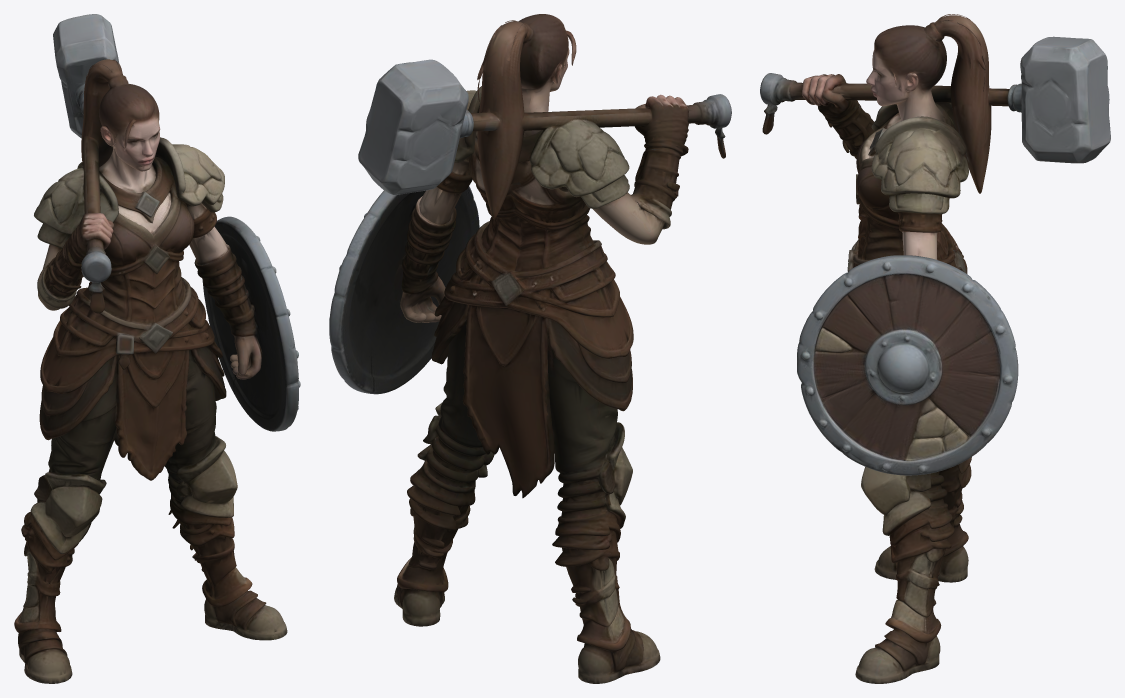
The model's file is hero_f_2.glb.
3 views of the same model, side by side, from view 1: azimuth 30°, elevation 25°; view 2: azimuth 150°, elevation 25°; view 3: azimuth 270°, elevation 25° (orthographic). The views are drawn at different scales.
Visible parts, largest first — view 1: node_0; view 2: node_0; view 3: node_0.
Part boxes in pixels (bbox=[...]): node_0: bbox=[14, 14, 300, 683]; node_0: bbox=[329, 14, 731, 683]; node_0: bbox=[760, 14, 1110, 683].
Size of the model in its own units: 0.5093 by 1.08 by 0.575.
1 material, 1 textured.
